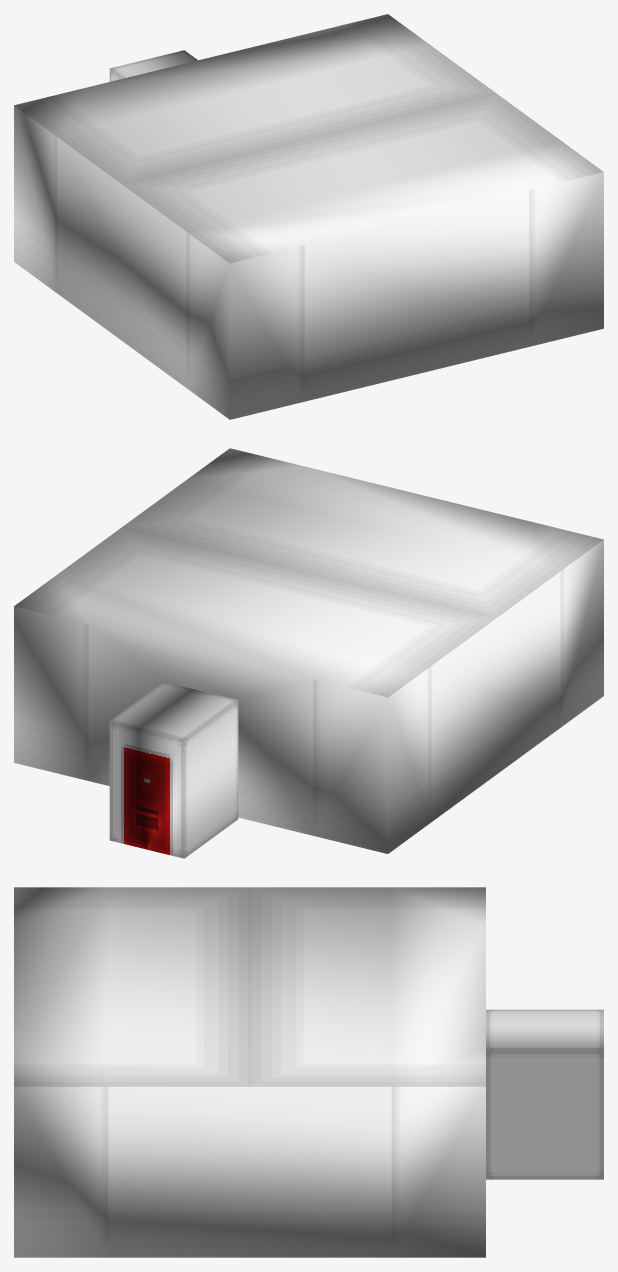
Rendered from Empty.obj.
3 views of the same model, one above another, from view 1: azimuth 30°, elevation 25°; view 2: azimuth 150°, elevation 25°; view 3: azimuth 270°, elevation 25° (orthographic). The views are drawn at different scales.
Visible parts, largest first — view 1: polygon5, polygon3, polygon4, polygon2; view 2: polygon5, polygon3, polygon4, polygon2, polygon1; view 3: polygon5, polygon3, polygon4, polygon2.
Part boxes in pixels (<box>): polygon5: <box>14,14,603,263</box>; polygon3: <box>57,137,529,401</box>; polygon4: <box>14,105,603,419</box>; polygon2: <box>109,50,197,81</box>; polygon5: <box>14,448,603,697</box>; polygon3: <box>88,571,560,835</box>; polygon4: <box>14,540,603,853</box>; polygon2: <box>110,682,238,858</box>; polygon1: <box>109,721,184,858</box>; polygon5: <box>14,887,485,1086</box>; polygon3: <box>108,1086,391,1257</box>; polygon4: <box>14,1086,485,1257</box>; polygon2: <box>486,1009,603,1179</box>.
Bounding box in the file's own units: 12 × 4.85 × 15.
6 materials, 6 textured.
